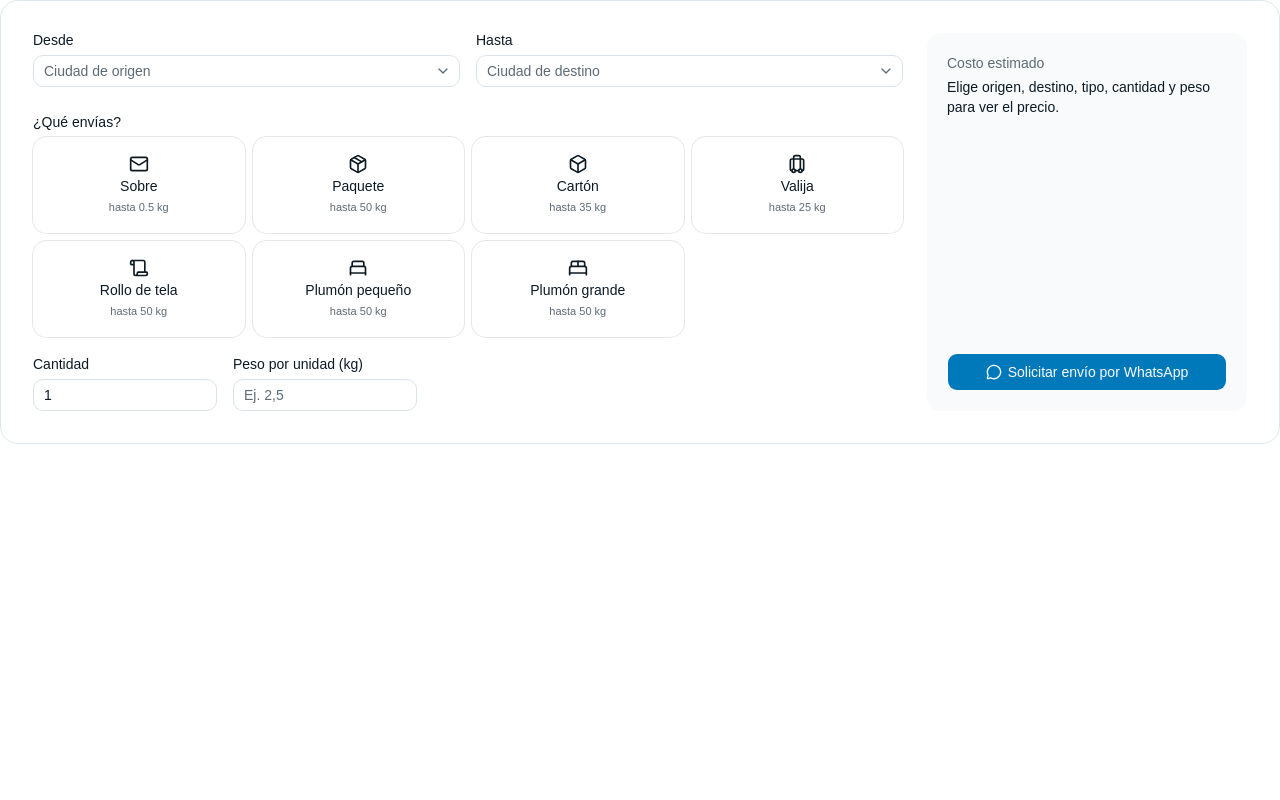
Test: CotizadorPublico (contrato v8) › muestra los 7 tipos y pide la zona solo para la tela
What coordinates should you click on to do the following:
click the dropdown labelled "Ciudad de origen"
I would click on:
 (97, 71)
Its box is left=33, top=55, right=460, bottom=87.
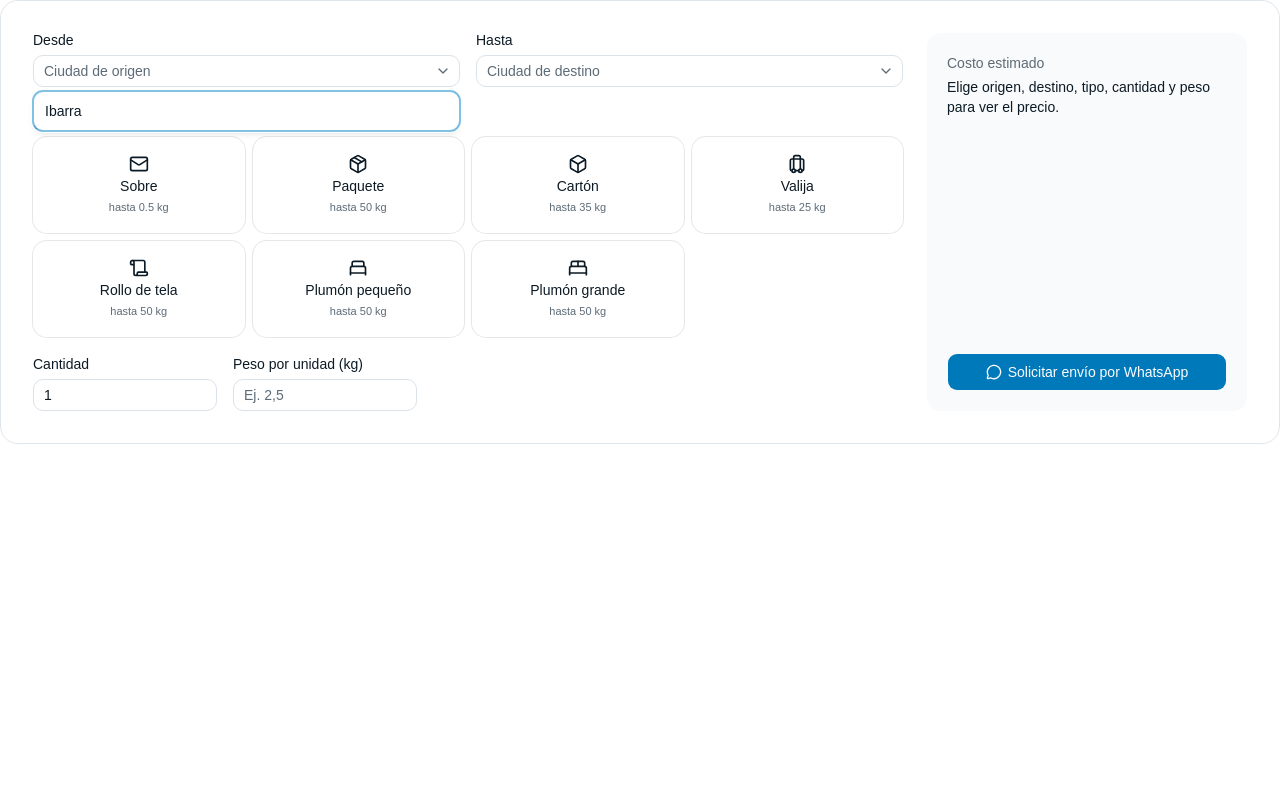
What coordinates should you click on to do the following:
click the option "Ibarra"
I would click on:
 (63, 111)
Its box is left=45, top=103, right=82, bottom=119.
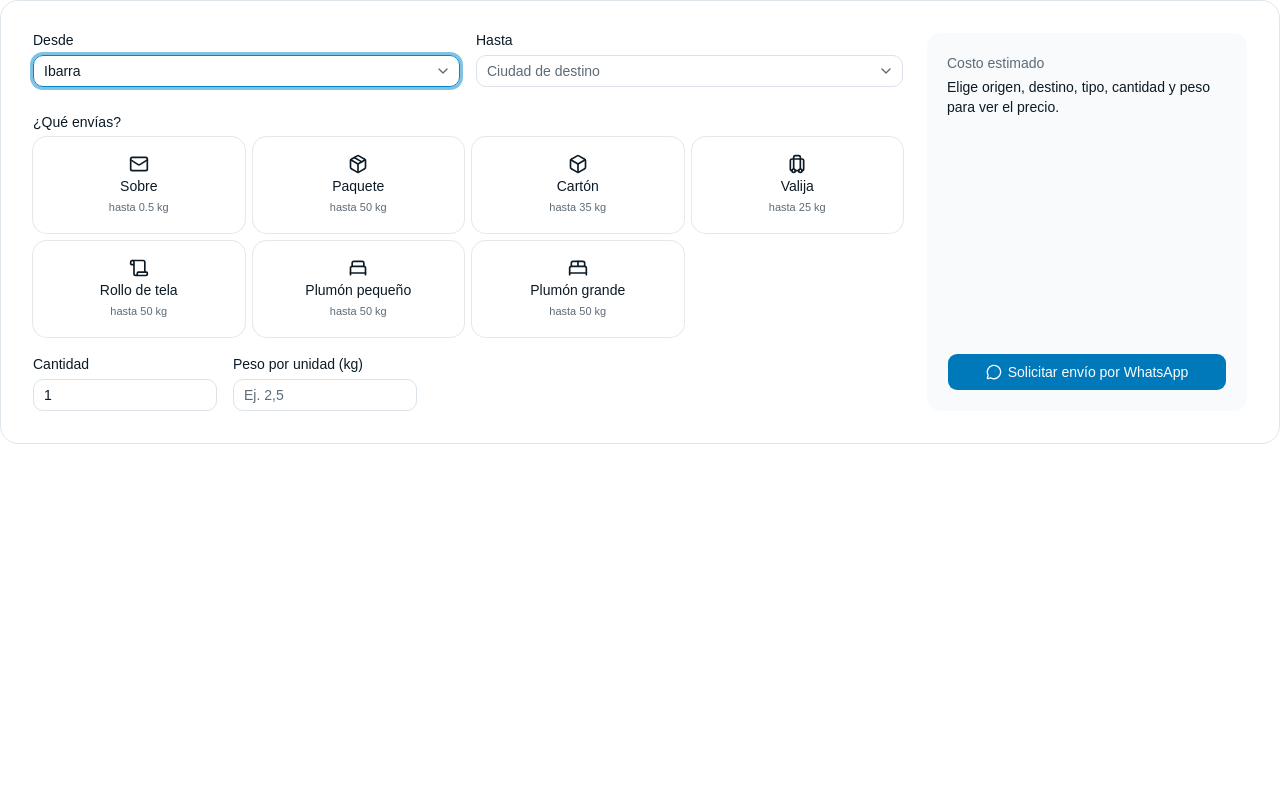
What coordinates should you click on to do the following:
click the dropdown labelled "Ciudad de destino"
I would click on:
 (543, 71)
Its box is left=476, top=55, right=903, bottom=87.
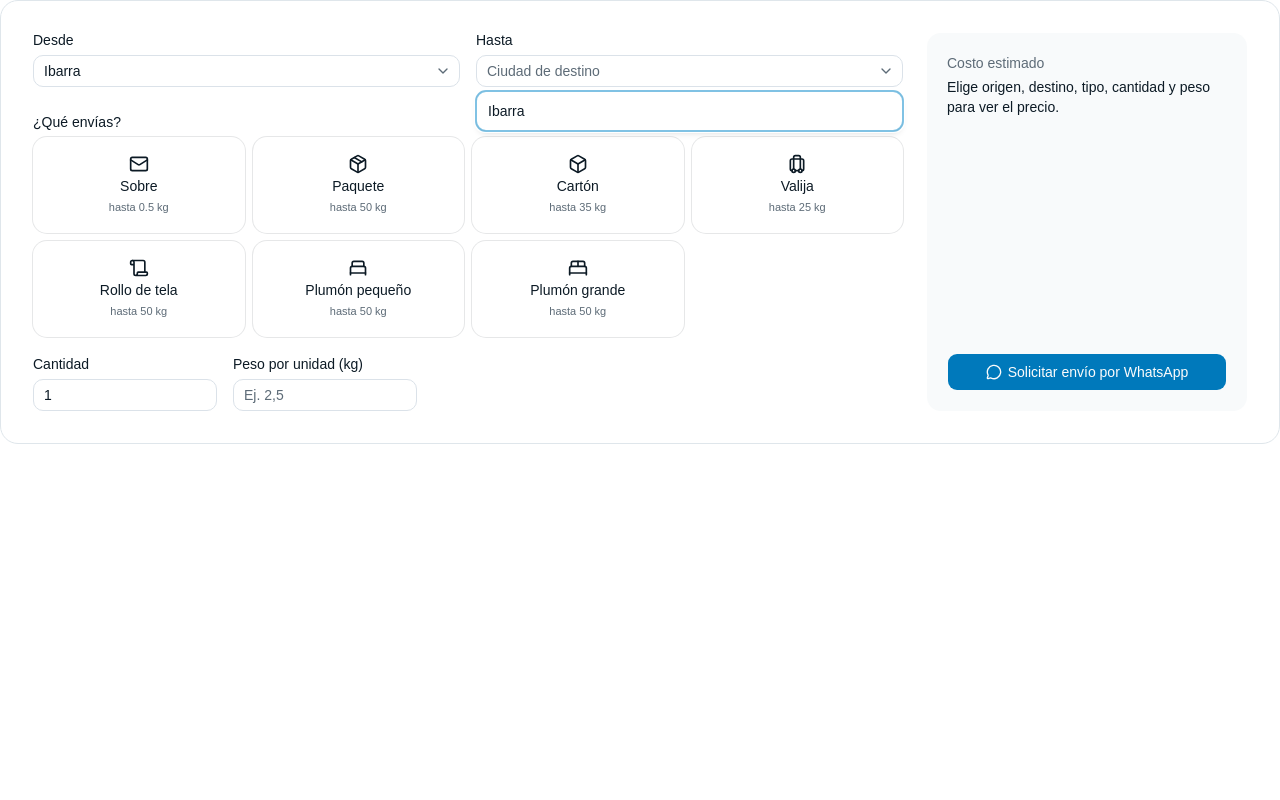
What coordinates should you click on to do the following:
click the option "Ibarra"
I would click on:
 (506, 111)
Its box is left=488, top=103, right=525, bottom=119.
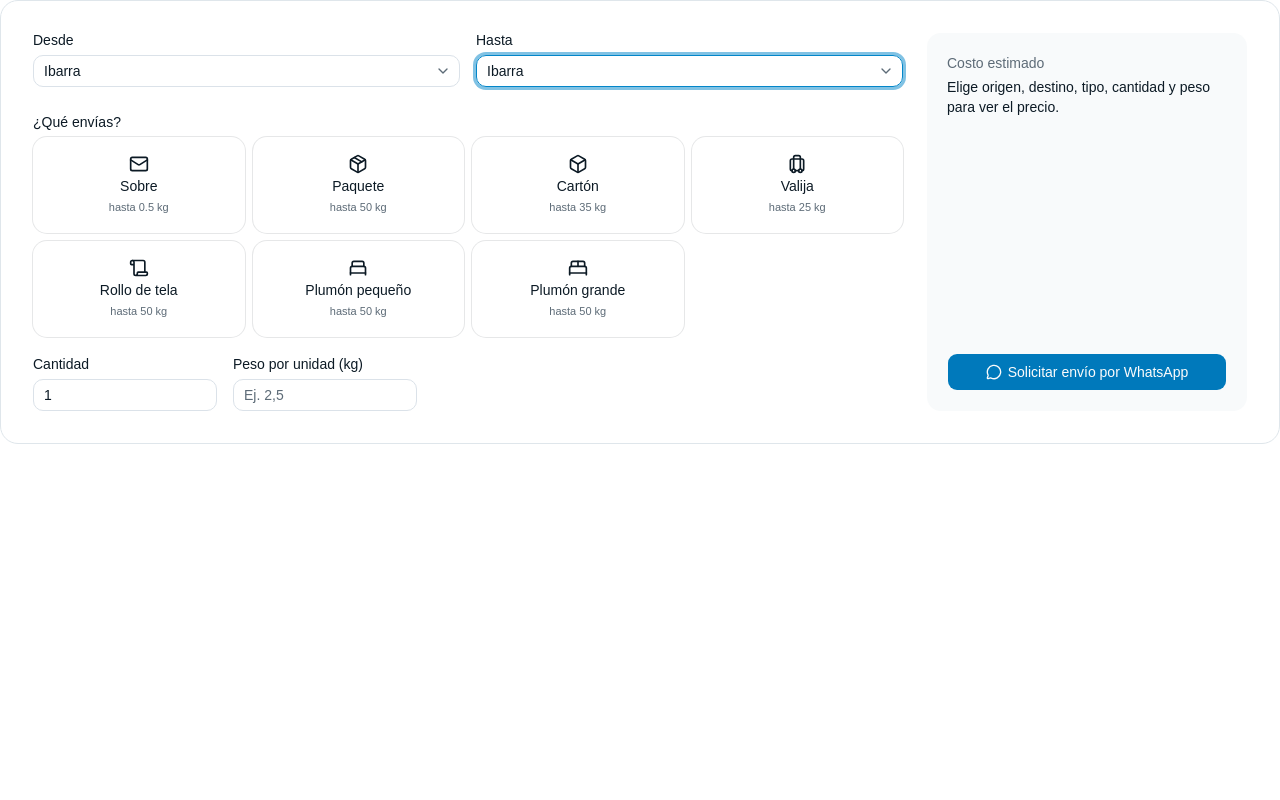
What coordinates should you click on to do the following:
click the radio button labelled "Paquete hasta 50 kg"
I would click on:
 (358, 185)
Its box is left=252, top=137, right=464, bottom=233.
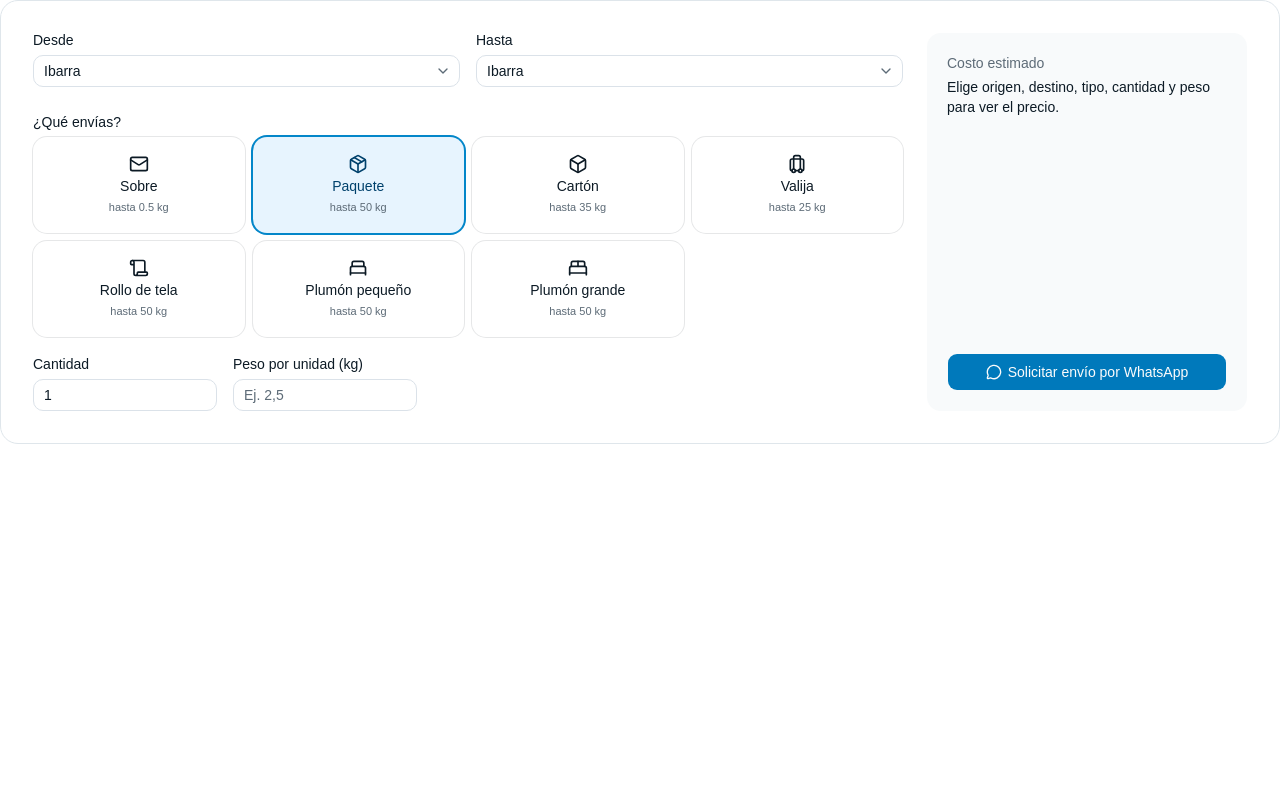
Expected: the element "Zona de entrega" is not shown
What coordinates should you click on to do the following:
click the radio button labelled "Rollo de tela hasta 50 kg"
I would click on:
 (139, 289)
Its box is left=33, top=241, right=244, bottom=337.
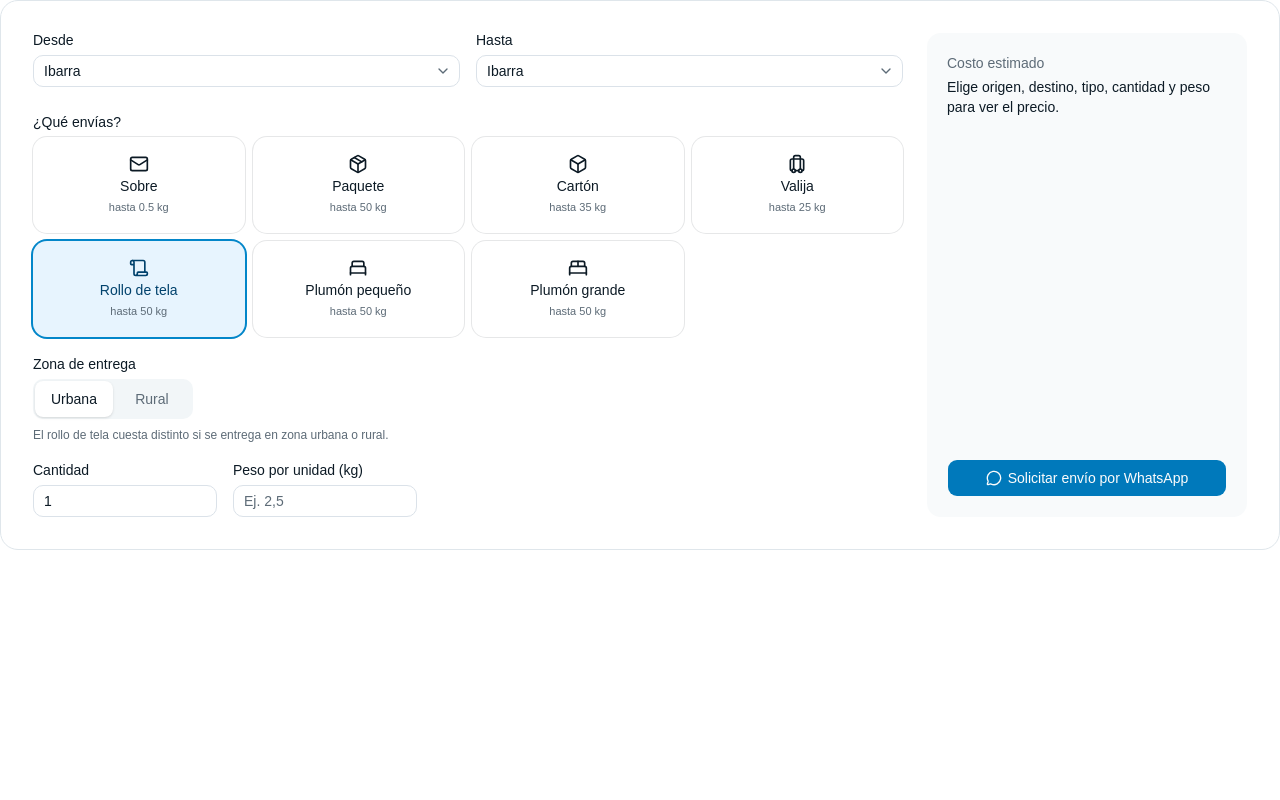
Expected: the element named "Zona de entrega" is shown, left=33, top=379, right=193, bottom=419
